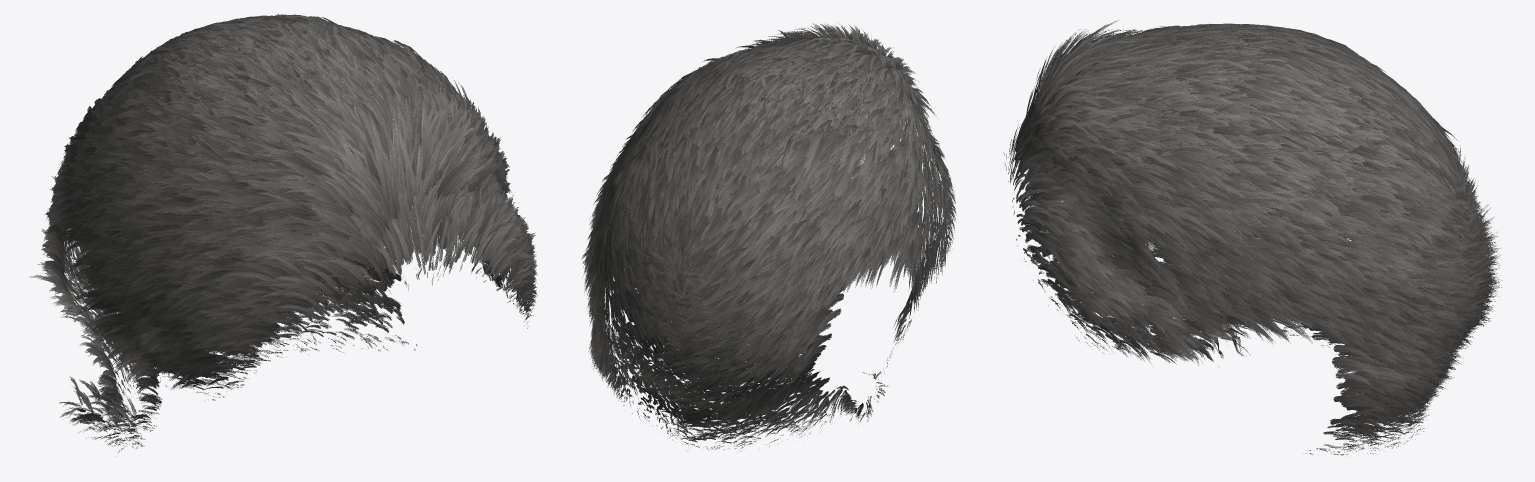
Rendered from prop-short-grey-opt.glb.
3 renders of one model, left to right at view 1: azimuth 30°, elevation 25°; view 2: azimuth 150°, elevation 25°; view 3: azimuth 270°, elevation 25°, orthographic. The views are drawn at different scales.
Visible parts, largest first — view 1: prop-short-grey; view 2: prop-short-grey; view 3: prop-short-grey.
Part boxes in pixels (bbox=[...]): prop-short-grey: bbox=[30, 14, 537, 456]; prop-short-grey: bbox=[582, 23, 956, 453]; prop-short-grey: bbox=[1003, 20, 1502, 455].
Bounding box in the file's own units: 1.07 × 1.08 × 1.31.
1 material, 1 textured.
